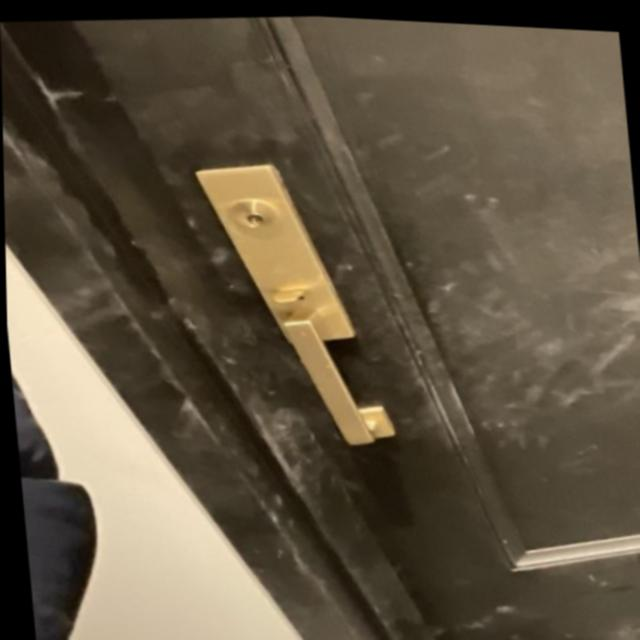door_handle: (269, 297, 411, 457)
